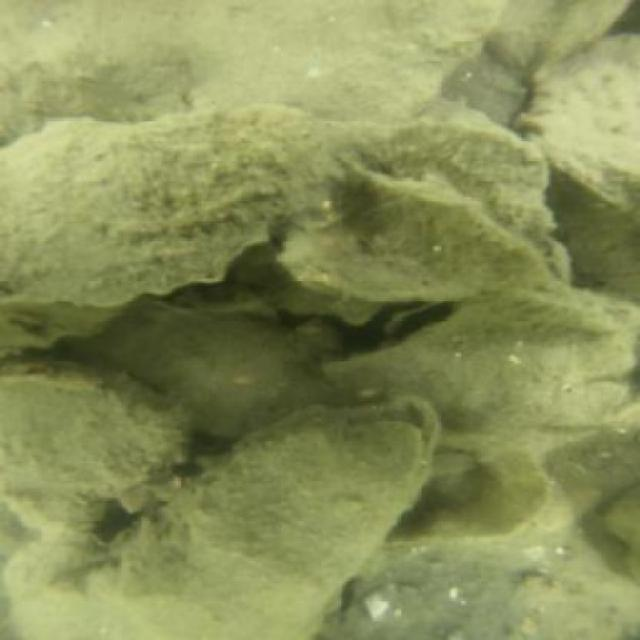Oyster- Indeterminate: (0, 81, 374, 352), (88, 400, 442, 627), (259, 186, 485, 352), (82, 295, 319, 445), (0, 354, 190, 541), (342, 533, 628, 635), (509, 34, 640, 233)
Oyster-Closed: (327, 60, 579, 234), (324, 157, 567, 292), (467, 247, 633, 349)
